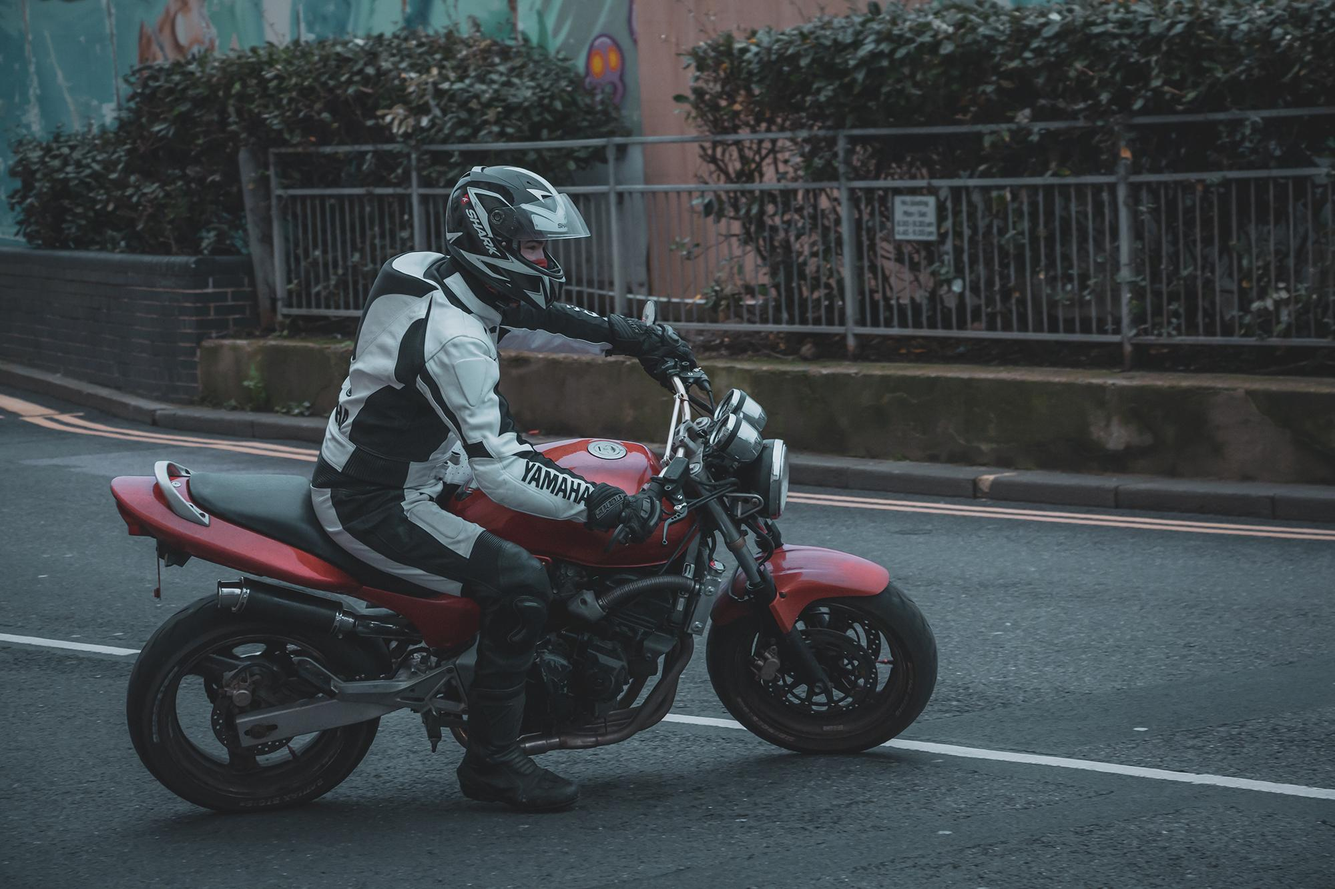helmet: (443, 164, 592, 314)
